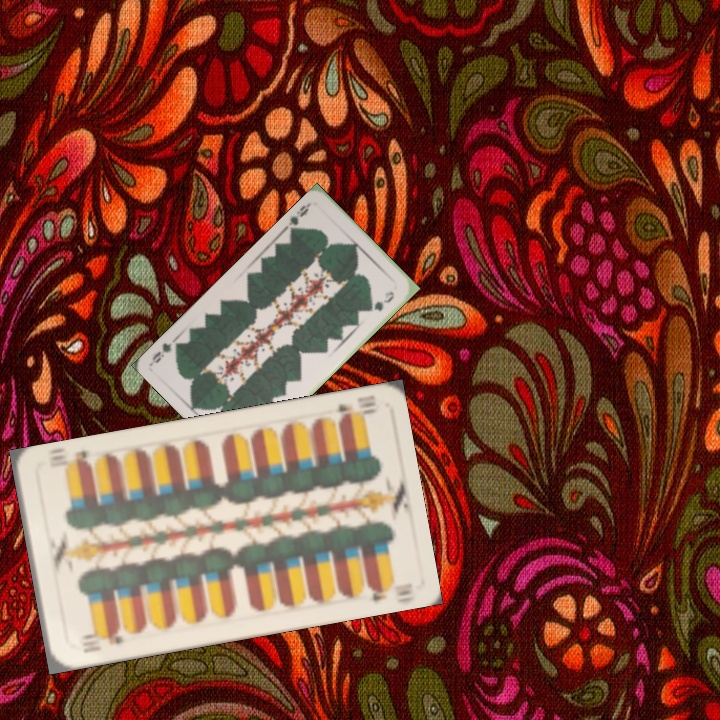E10: (333, 391, 379, 425), (78, 626, 126, 656)
G9: (282, 198, 313, 235)
